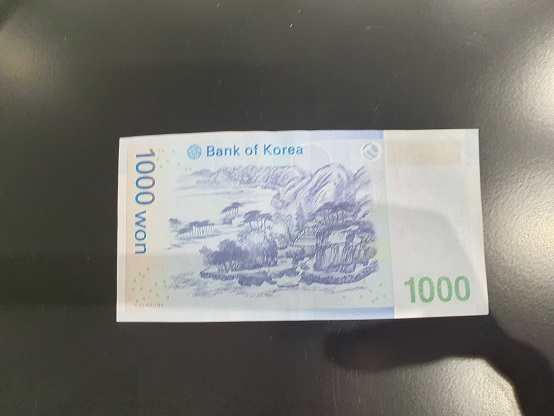1000won: (112, 128, 490, 322)
